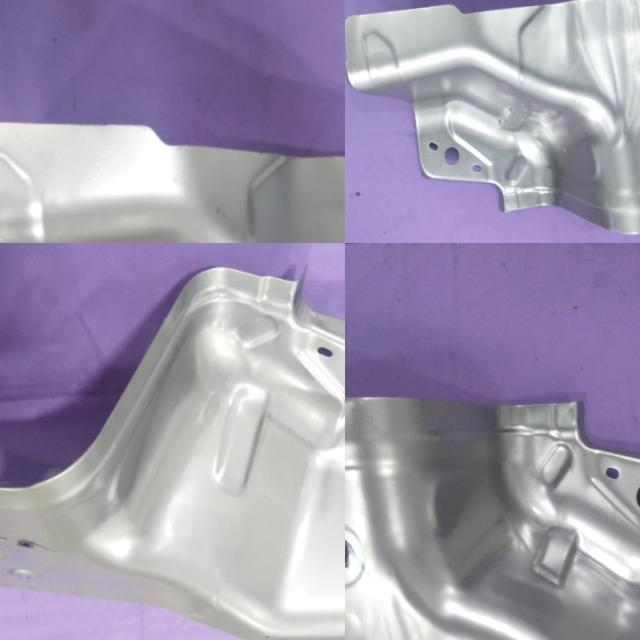Defect: (599, 190, 622, 233)
Healthy: (0, 259, 345, 640), (345, 387, 640, 640), (0, 110, 345, 243)
rust: (631, 225, 640, 234)
